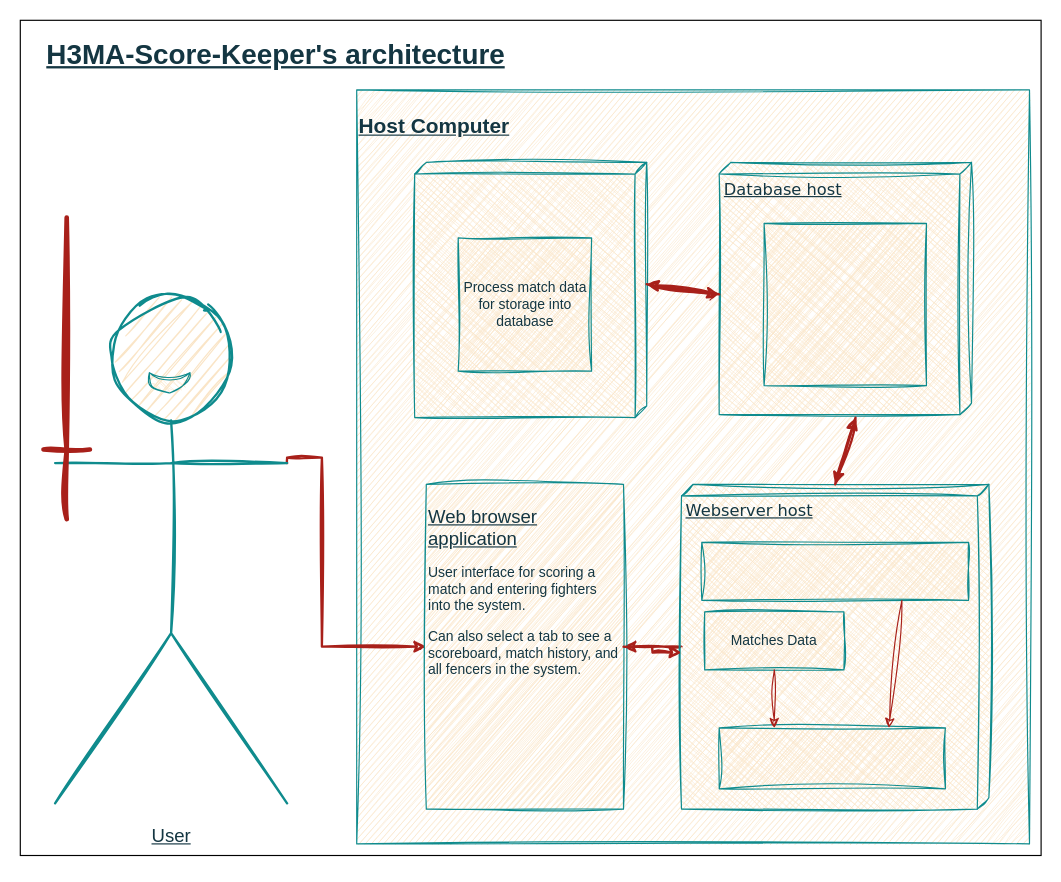
Image size: 1061x882. Some labels were removed from this diagram. Here are the shapes that lost their labels. From the top down, the box of each, then its label:
(414, 161, 647, 418): Analytics host
(763, 222, 926, 386): Tables of data for fencers and matches
(701, 541, 969, 600): Fencer Data
(718, 727, 945, 789): Front End Application
